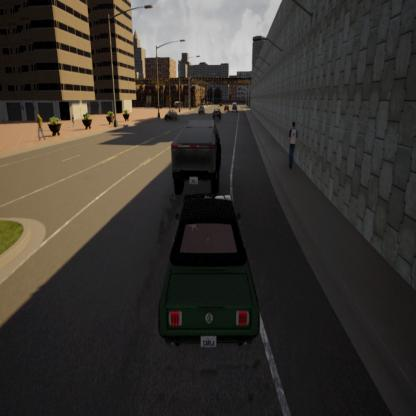Cars: (159, 195, 260, 352), (171, 120, 221, 194), (166, 111, 180, 123), (212, 108, 223, 120), (198, 106, 206, 116), (233, 101, 238, 112), (224, 105, 230, 112)
Pedestrian: (287, 119, 298, 170), (34, 110, 48, 143), (70, 114, 77, 130), (110, 116, 115, 128)
